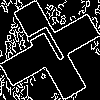L: (25, 25, 72, 78)
